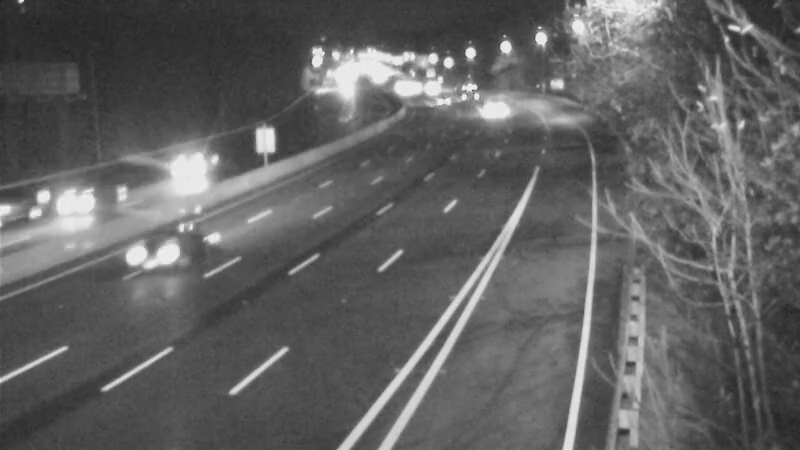vehicle: (112, 215, 192, 295), (34, 165, 114, 245), (153, 130, 233, 210), (1, 168, 71, 248), (408, 66, 458, 116), (446, 64, 496, 114), (414, 78, 464, 128), (468, 86, 518, 136)
